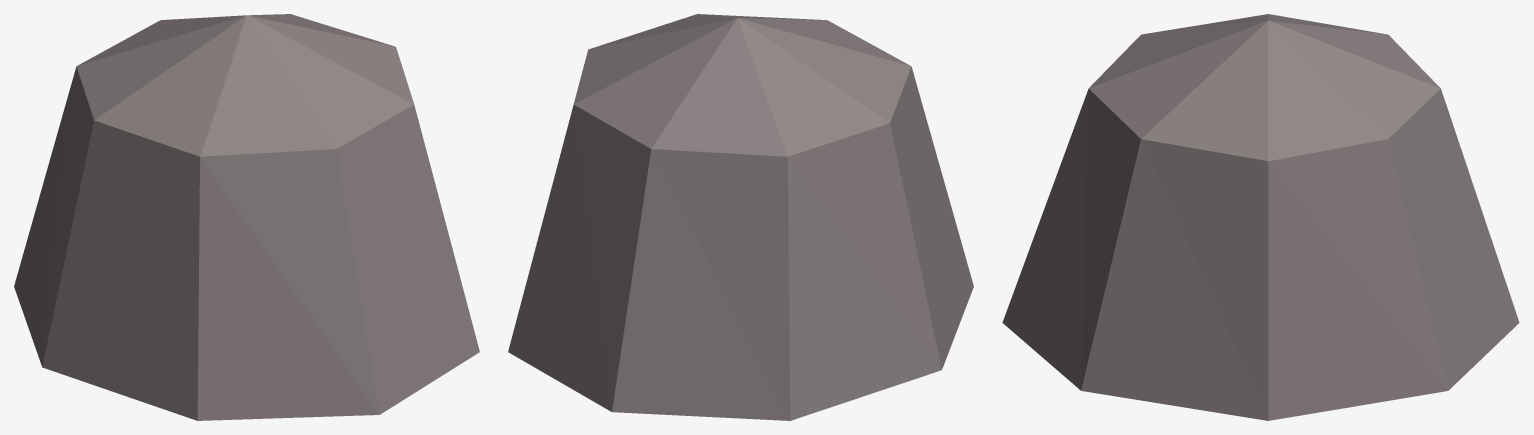
3 renders of one model, left to right at view 1: azimuth 30°, elevation 25°; view 2: azimuth 150°, elevation 25°; view 3: azimuth 270°, elevation 25°, orthographic.
Size of the model in its own units: 125 by 89 by 138.
1 material, 1 textured.
